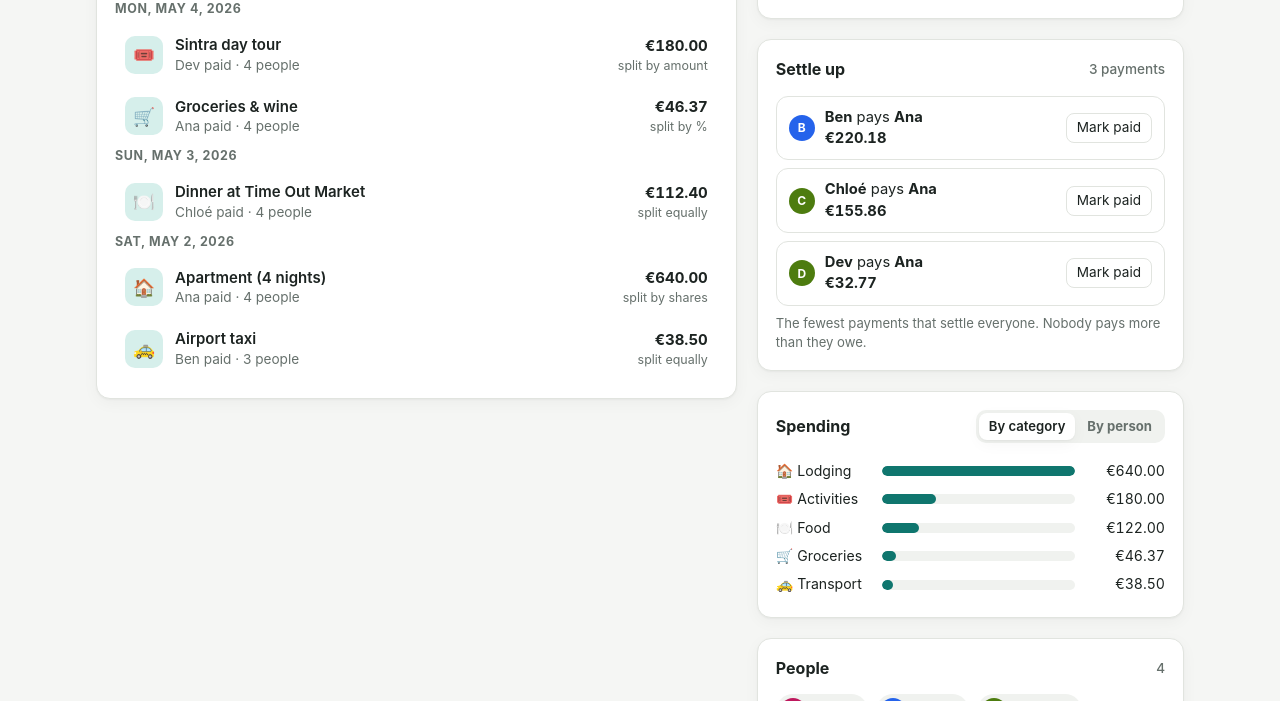
Scenario: Tally app › edits and deletes an expense, with undo restoring it
This screenshot has width=1280, height=701.
(page scrolled)
Click the button with aria-label "Edit Airport taxi" at [144, 349], box [115,318,718,380]
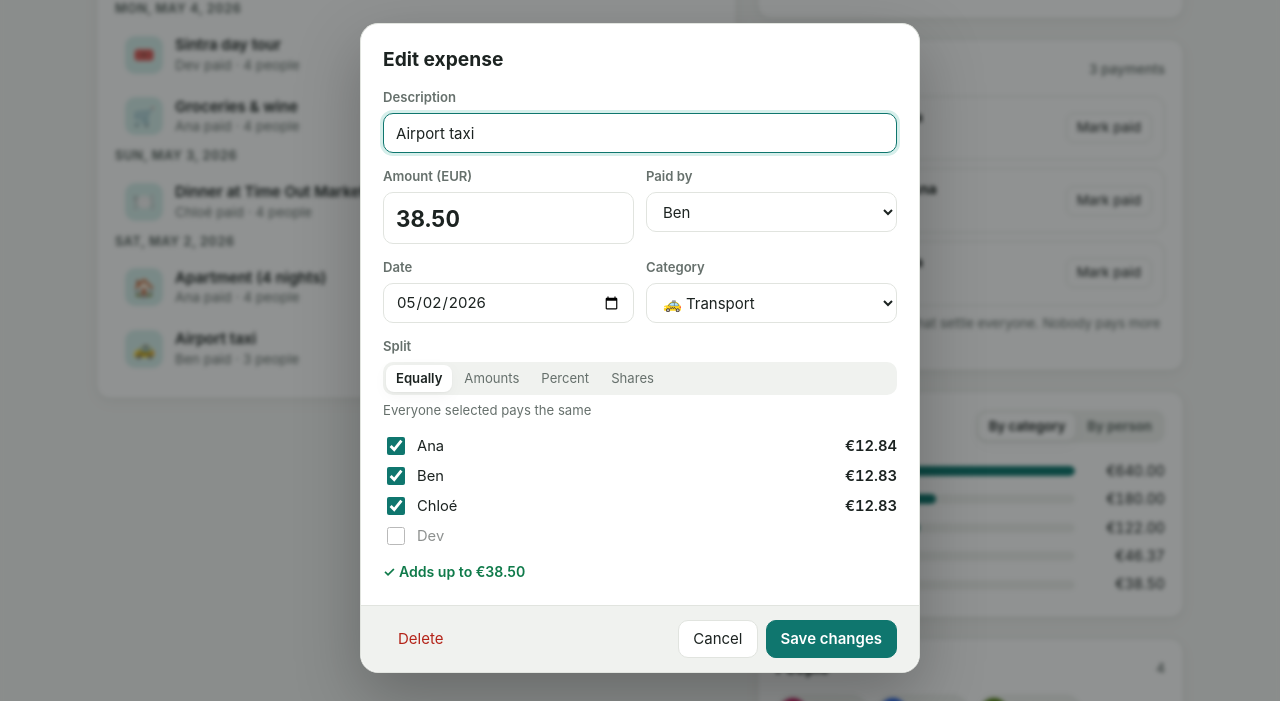
Expected: the field labelled "Description" holds "Airport taxi", [383,113,897,153]
Click the button "Delete" at [421, 639], box [383,620,458,658]
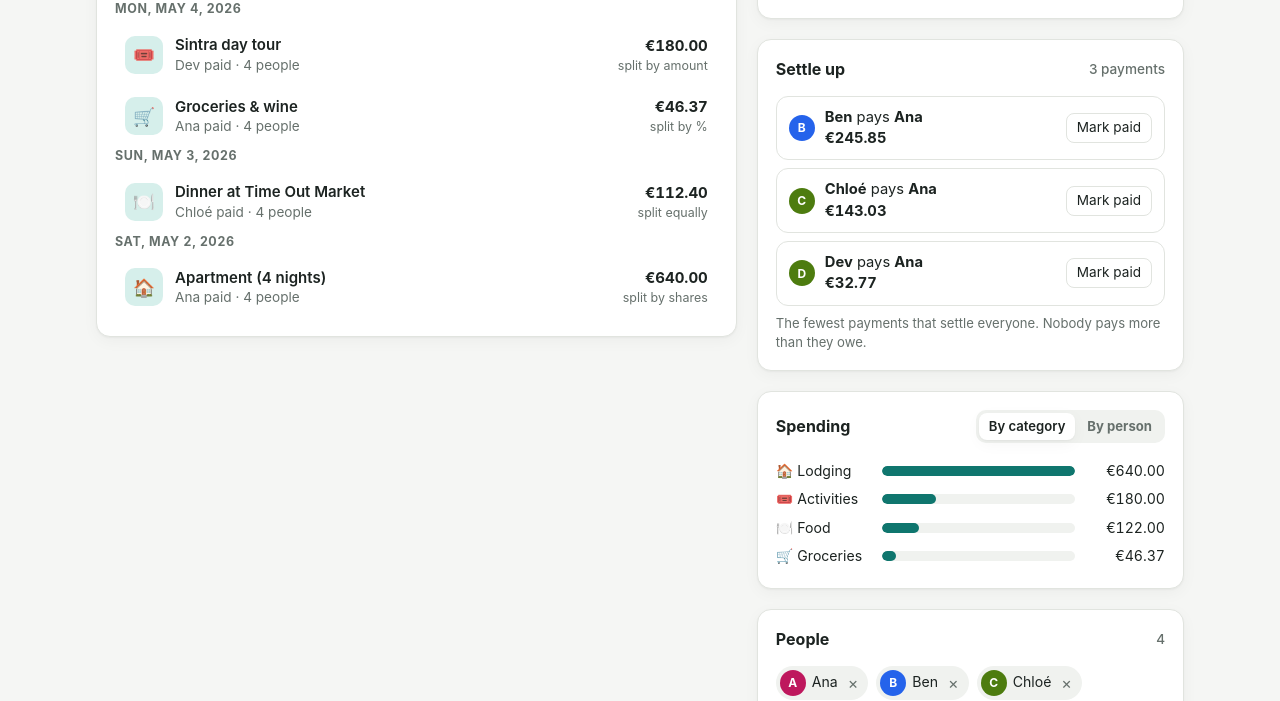
Type keys "{Control>}z{/Control}"
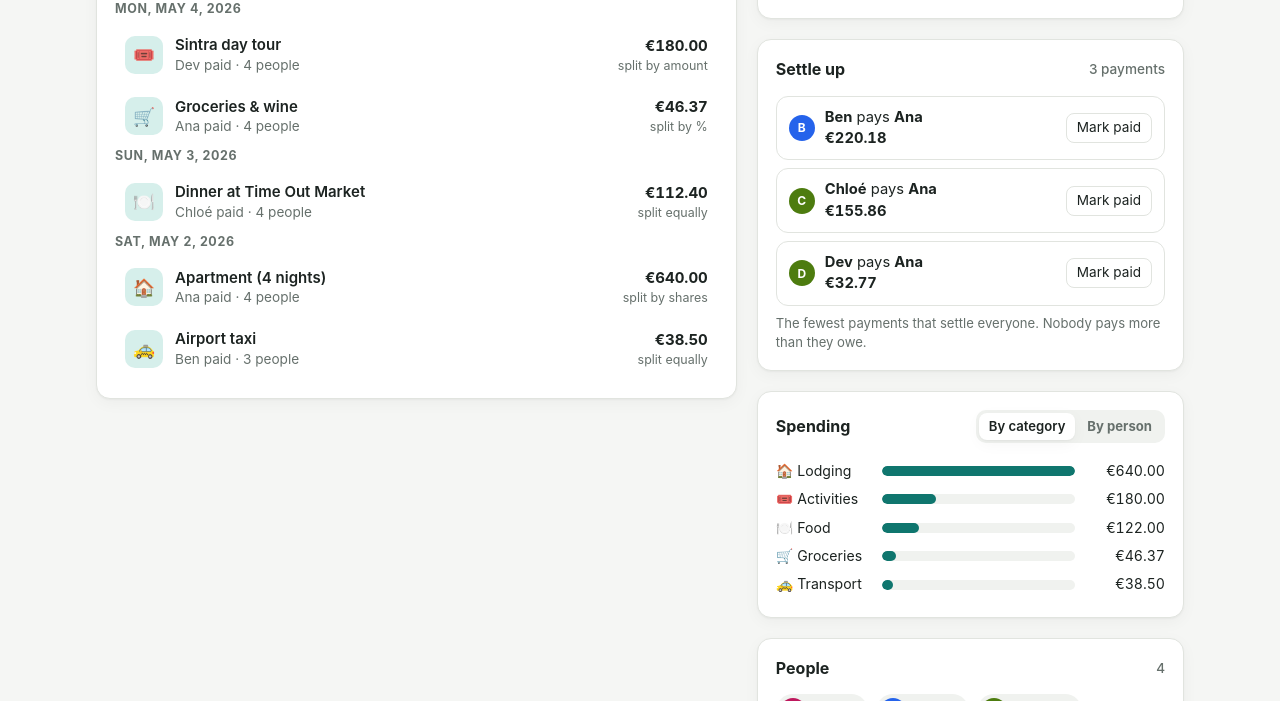
Expected: the button with aria-label "Edit Airport taxi" is shown, [115,318,718,380]
